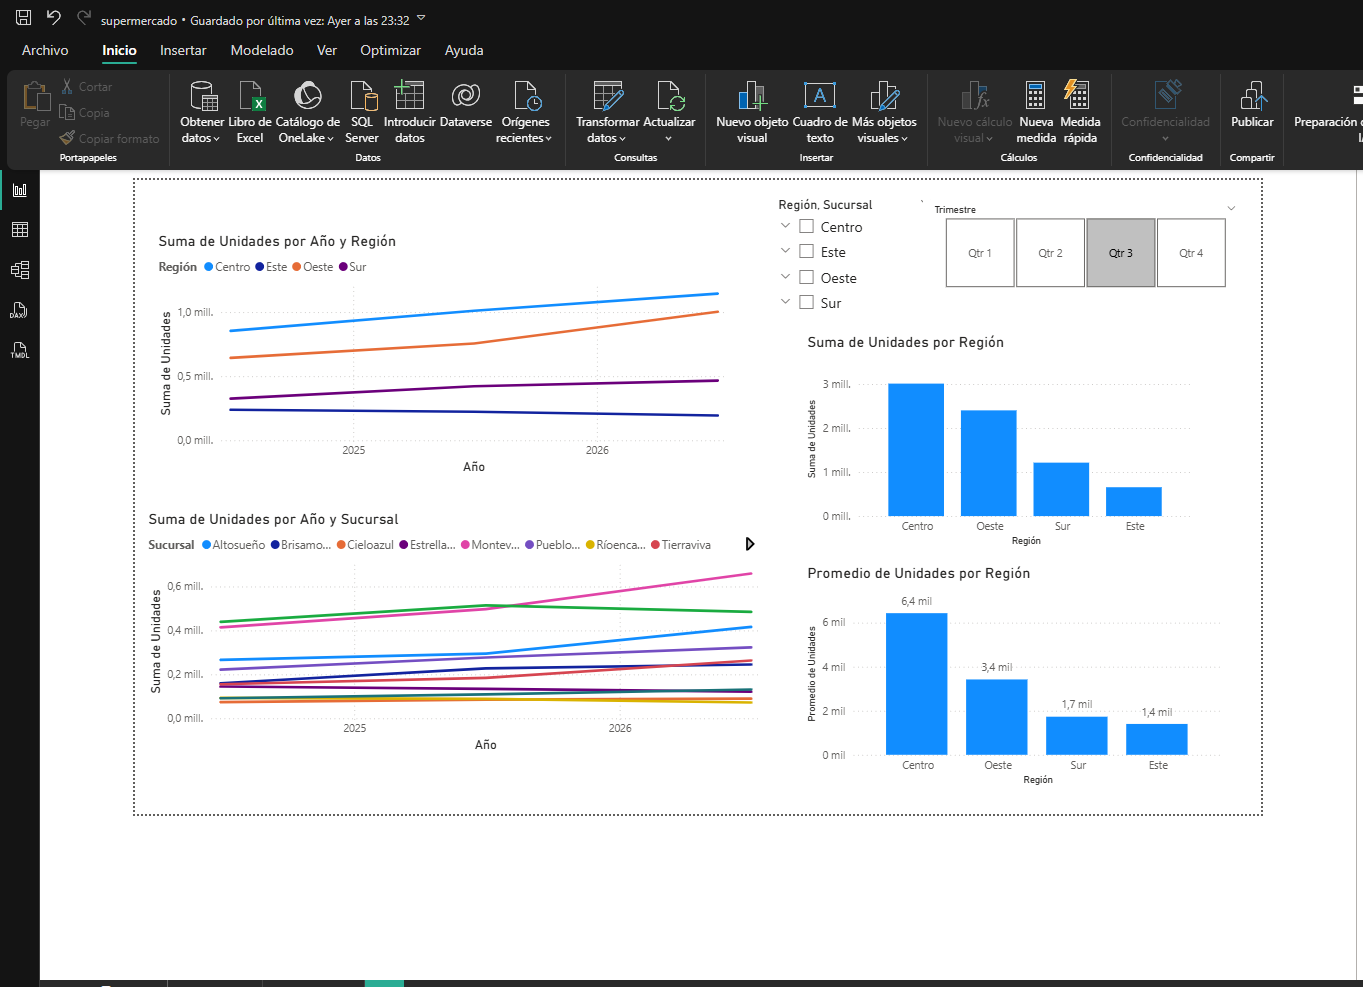

This screenshot's page, from the dashboard's own definition file:
{"tool":"powerbi","page":{"name":"Sucursales1","canvas":[1280,720],"ordinal":1},"visuals":[{"type":"lineChart","fields":{"Category":["Ventas_2024_2026.Cierre mes.Variación.Jerarquía de fechas.Año","Ventas_2024_2026.Cierre mes.Variación.Jerarquía de fechas.Trimestre","Ventas_2024_2026.Cierre mes.Variación.Jerarquía de fechas.Mes","Ventas_2024_2026.Cierre mes.Variación.Jerarquía de fechas.Día"],"Y":["Sum(Ventas_2024_2026.Unidades)"],"Series":["Sucursales.Región Jerarquía.Región"]},"box":[21.4,59.3,658.5,280.1],"z":0},{"type":"lineChart","fields":{"Category":["Ventas_2024_2026.Cierre mes.Variación.Jerarquía de fechas.Año","Ventas_2024_2026.Cierre mes.Variación.Jerarquía de fechas.Trimestre","Ventas_2024_2026.Cierre mes.Variación.Jerarquía de fechas.Mes","Ventas_2024_2026.Cierre mes.Variación.Jerarquía de fechas.Día"],"Y":["Sum(Ventas_2024_2026.Unidades)"],"Series":["Sucursales.Región Jerarquía.Sucursal"]},"box":[9.7,374.5,708.1,280.1],"z":1000},{"type":"slicer","fields":{"Values":["Sucursales.Región Jerarquía.Región","Sucursales.Región Jerarquía.Sucursal"]},"box":[718,14.5,199.6,147.2],"z":2000},{"type":"slicer","fields":{"Values":["Ventas_2024_2026.Cierre mes.Variación.Jerarquía de fechas.Trimestre"]},"box":[895.8,22.4,367.7,106],"z":3000},{"type":"columnChart","fields":{"Category":["Sucursales.Región Jerarquía.Región"],"Y":["Sum(Ventas_2024_2026.Unidades)"]},"box":[759.6,174.1,448.4,247.1],"z":4000},{"type":"columnChart","fields":{"Category":["Sucursales.Región Jerarquía.Región"],"Y":["Avg(Ventas_2024_2026.Unidades)"]},"box":[759.6,436.7,481.5,255.8],"z":5000}]}

Visuals, with their boxes on the page's 1280x720 design canvas (x1, y1, x2, y2). These are canvas units, not pixel positions in the 1363x987 screenshot, which may show the page scaled, cropped or inside an application window:
lineChart - Ventas_2024_2026.Cierre mes.Variación.Jerarquía de fechas.Año x Ventas_2024_2026.Cierre mes.Variación.Jerarquía de fechas.Trimestre: rect(21, 59, 680, 339)
lineChart - Ventas_2024_2026.Cierre mes.Variación.Jerarquía de fechas.Año x Ventas_2024_2026.Cierre mes.Variación.Jerarquía de fechas.Trimestre: rect(10, 374, 718, 655)
slicer - Sucursales.Región Jerarquía.Región x Sucursales.Región Jerarquía.Sucursal: rect(718, 14, 918, 162)
slicer - Ventas_2024_2026.Cierre mes.Variación.Jerarquía de fechas.Trimestre: rect(896, 22, 1264, 128)
columnChart - Sucursales.Región Jerarquía.Región x Sum(Ventas_2024_2026.Unidades): rect(760, 174, 1208, 421)
columnChart - Sucursales.Región Jerarquía.Región x Avg(Ventas_2024_2026.Unidades): rect(760, 437, 1241, 692)
